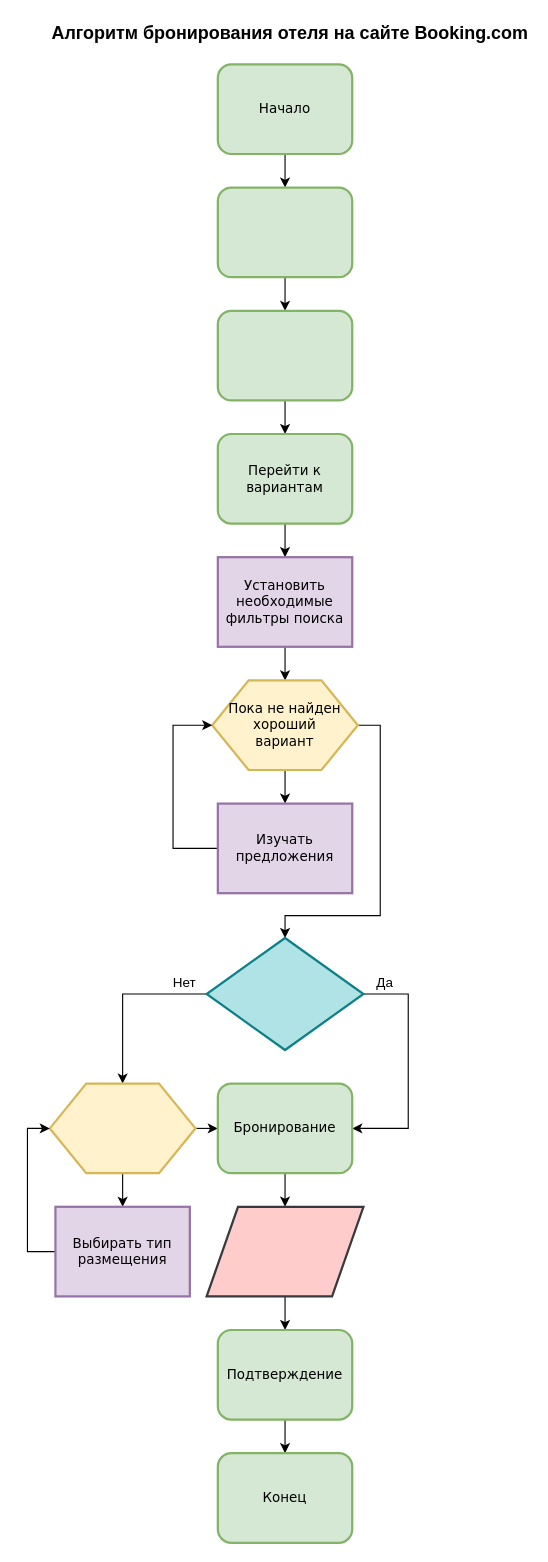
The diagram is 548 pixels wide and 1562 high, and some of its shapes have lost their labels. The shapes that lost their labels are listed below. From the top down, each one's centre as x and y in pixels, then its label:
At (x=284, y=232): "Переход на сайт Booking.com".
At (x=284, y=355): "Выбор страны, даты и количества людей".
At (x=284, y=993): "Отдельная квартира или дом?".
At (x=122, y=1128): "Пока не найден подходящий вариант".
At (x=284, y=1251): "Ввод данных".
